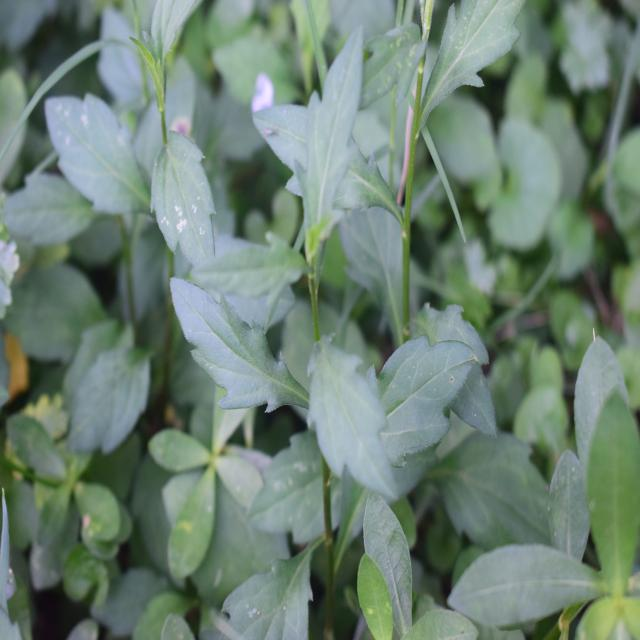Indian aster: (221, 40, 466, 550), (54, 5, 242, 322)
